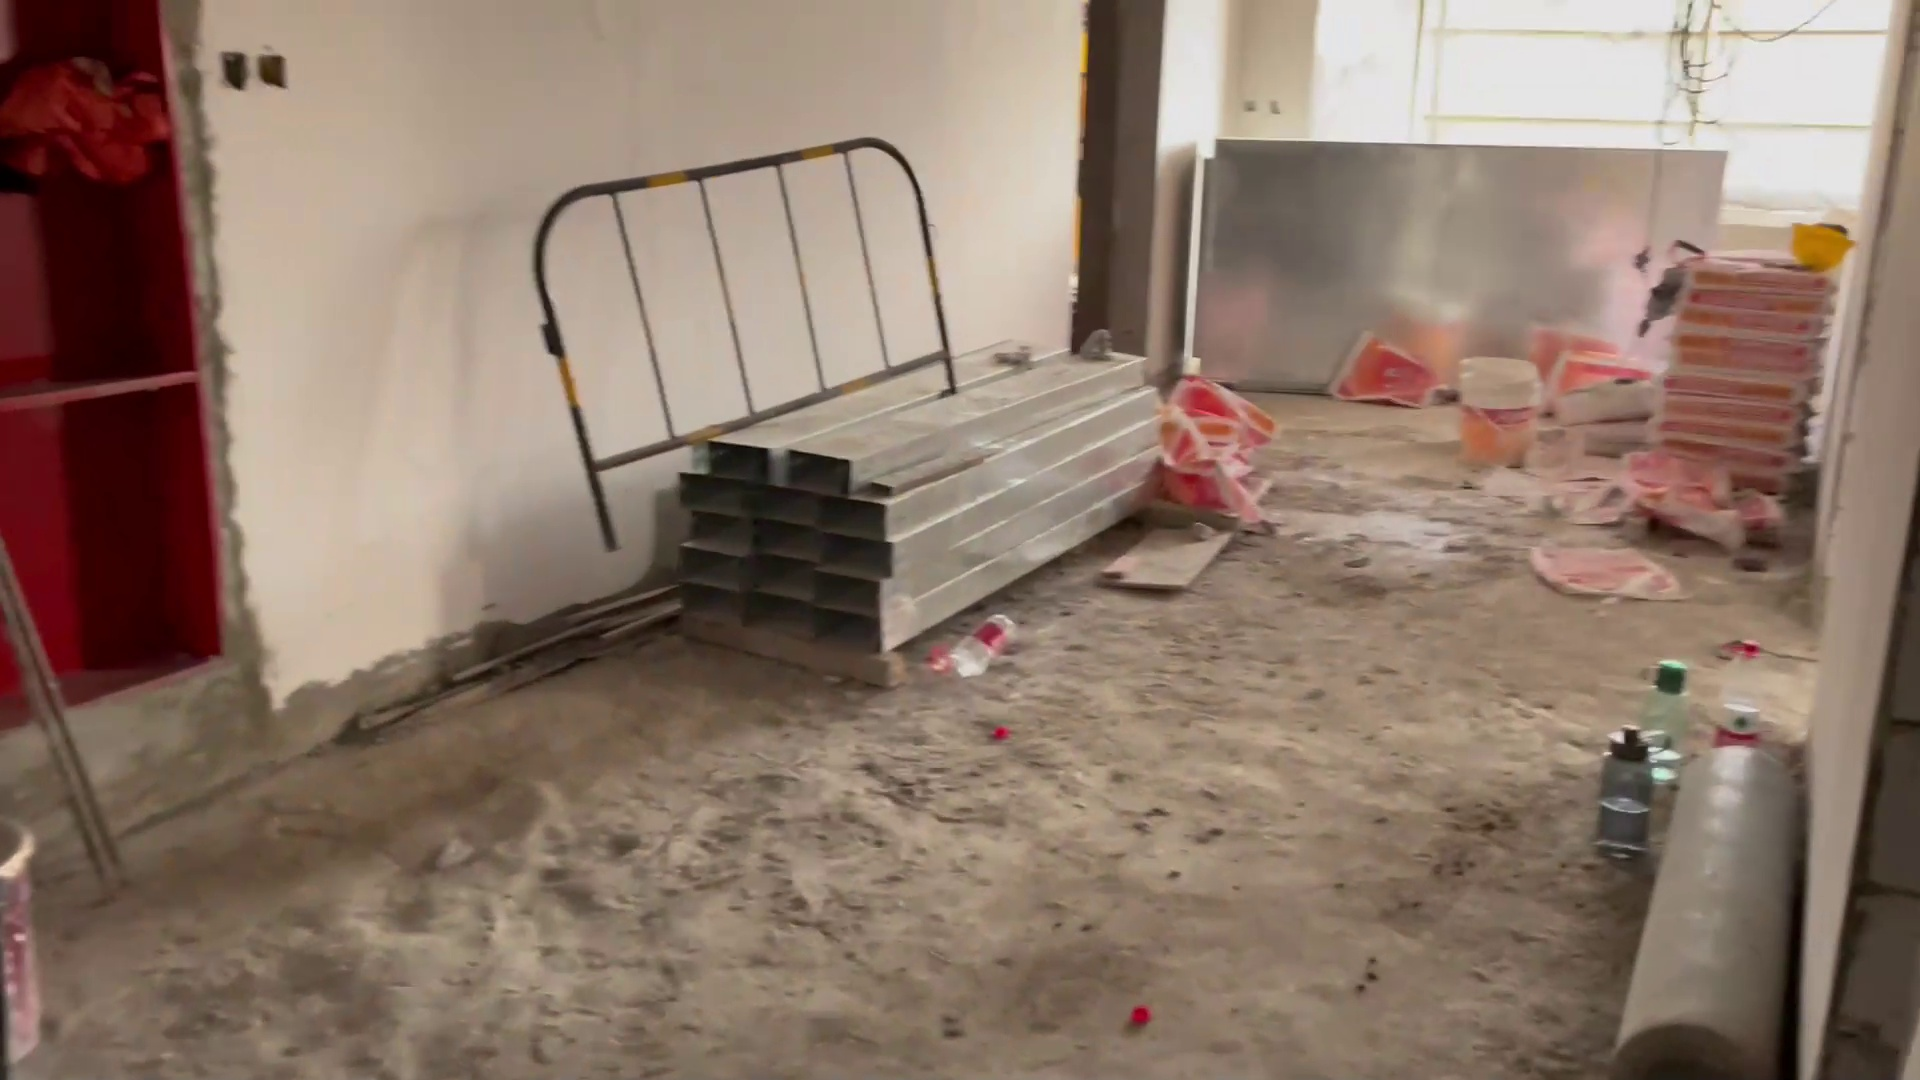fence: (472, 135, 992, 451)
helmet: (1778, 208, 1863, 276)
